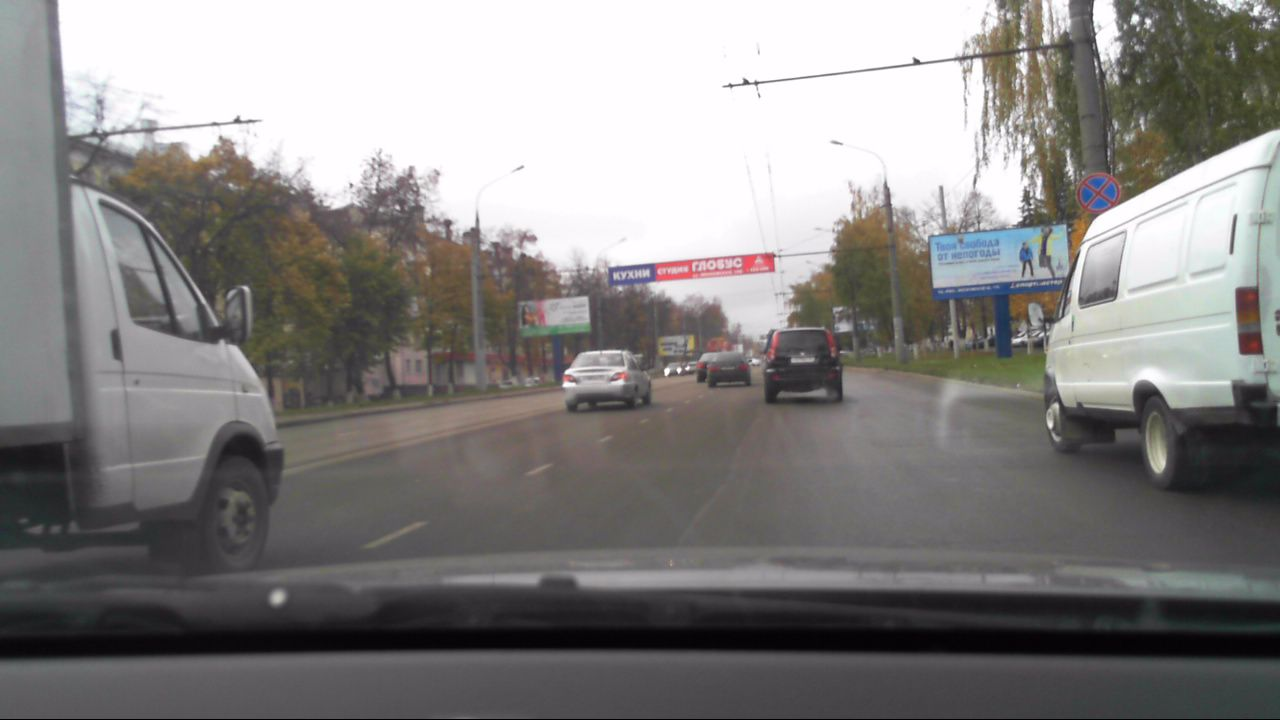No Parking: (1076, 170, 1120, 213)
